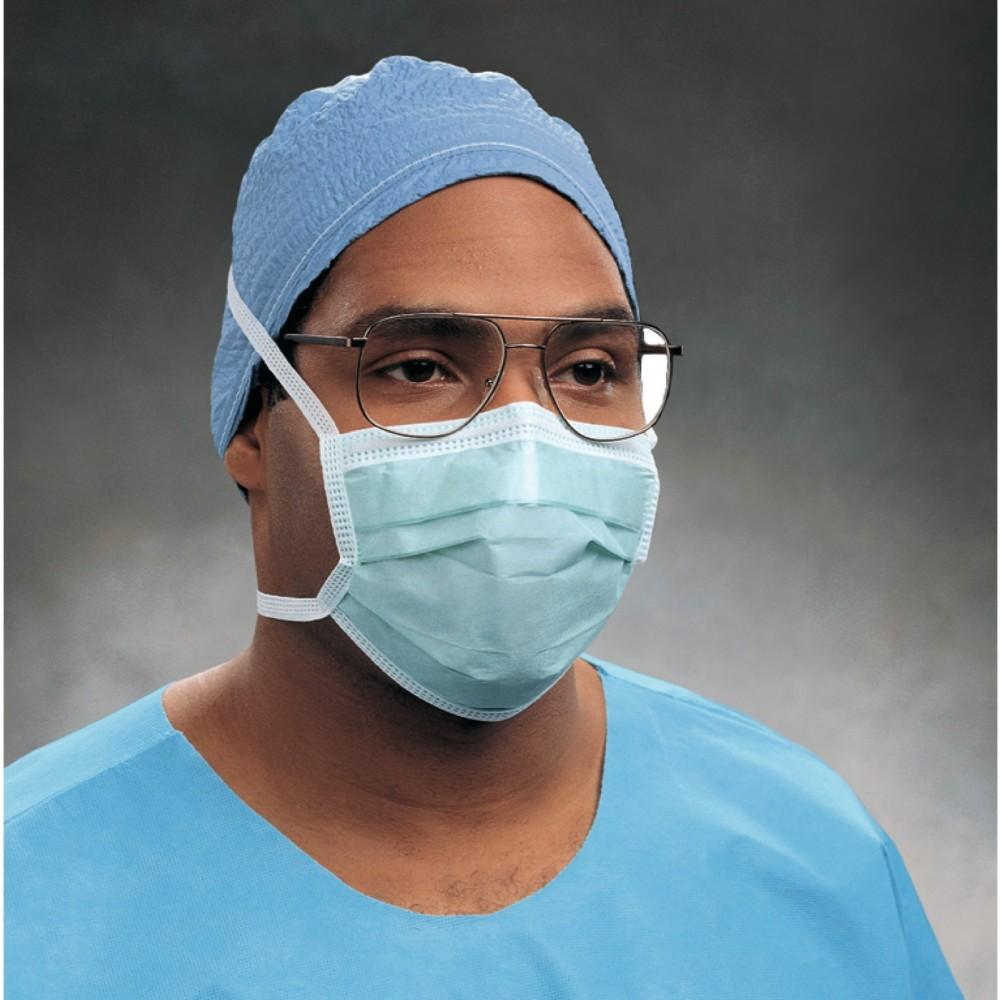Wearing Mask: (125, 14, 752, 778)
